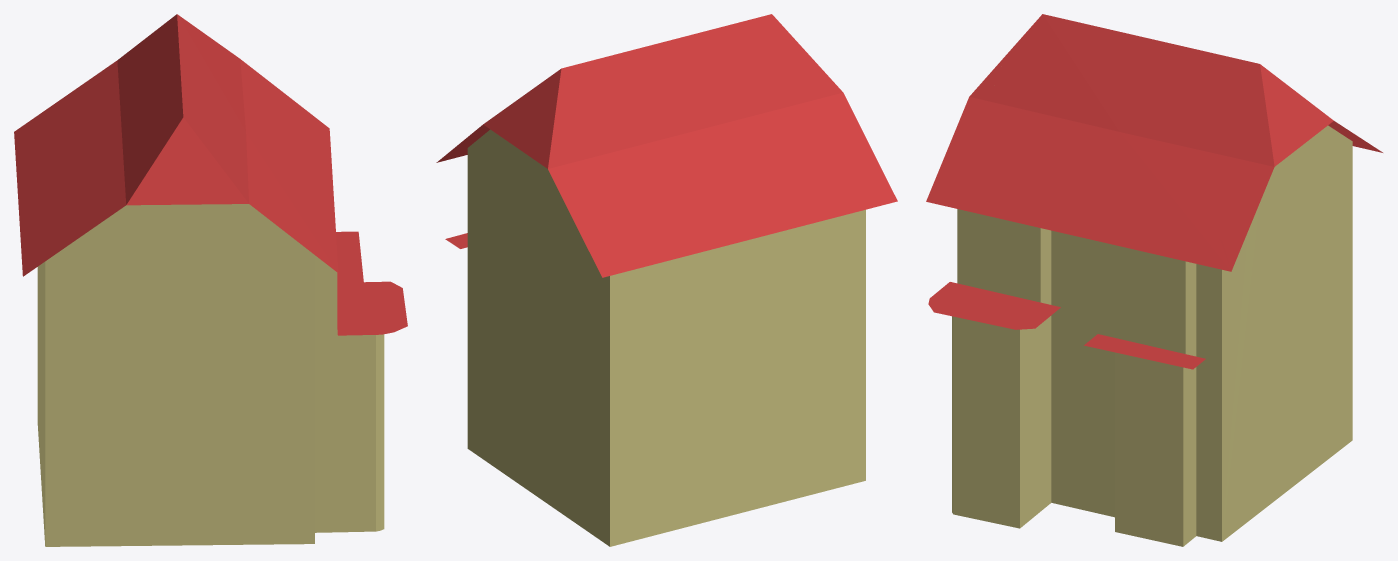
The picture shows the model from 3 angles, left to right: view 1: azimuth 30°, elevation 25°; view 2: azimuth 150°, elevation 25°; view 3: azimuth 270°, elevation 25°; orthographic projection.
Parts seen in each view (by area): view 1: group_5, group_3, group_13, group_11, group_4, group_12, group_7, group_8; view 2: group_5, group_3, group_4; view 3: group_5, group_3, group_13, group_9, group_4, group_11, group_7, group_8, group_12.
Boxes of the visible parts, <box> form: group_5: <box>37,204,337,546</box>; group_3: <box>14,14,338,276</box>; group_13: <box>337,330,384,532</box>; group_11: <box>337,281,407,335</box>; group_4: <box>117,40,334,258</box>; group_12: <box>337,282,406,335</box>; group_7: <box>336,231,363,282</box>; group_8: <box>337,232,362,282</box>; group_5: <box>467,129,865,546</box>; group_3: <box>436,14,897,277</box>; group_4: <box>437,78,842,248</box>; group_5: <box>957,125,1352,544</box>; group_3: <box>926,14,1300,271</box>; group_13: <box>952,316,1040,528</box>; group_9: <box>1115,352,1185,546</box>; group_4: <box>953,57,1382,271</box>; group_11: <box>928,282,1060,329</box>; group_7: <box>1084,334,1205,369</box>; group_8: <box>1085,334,1205,369</box>; group_12: <box>933,282,1060,329</box>.
Bounding box in the file's own units: 14.82 × 14.81 × 15.09.
